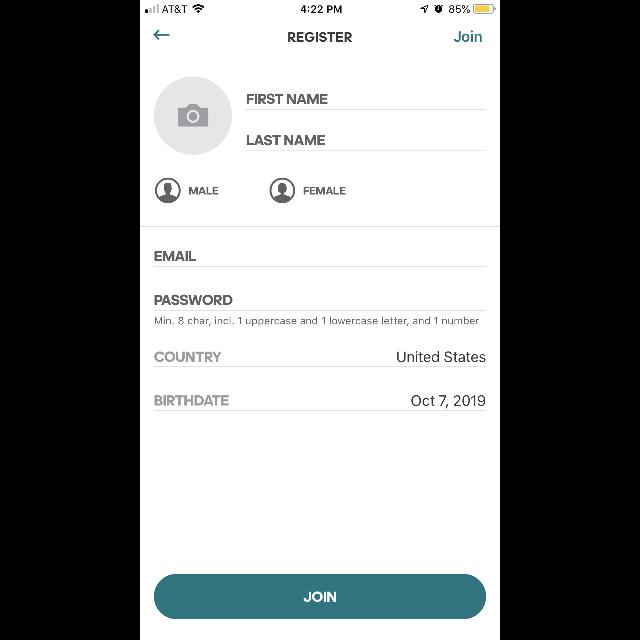icon: (154, 77, 232, 155), (270, 178, 296, 204), (155, 178, 181, 204), (154, 30, 170, 40)
input: (154, 295, 486, 311), (154, 251, 486, 267), (246, 134, 486, 152), (246, 94, 486, 110)
text: (155, 316, 479, 326), (397, 351, 485, 363), (155, 294, 233, 306), (247, 134, 325, 146), (246, 94, 328, 105), (411, 396, 485, 408), (155, 394, 229, 406), (154, 352, 222, 362), (288, 32, 352, 42), (155, 251, 197, 261), (454, 31, 482, 43), (304, 187, 346, 195), (190, 187, 218, 195)
textbutton: (154, 574, 486, 620)
uppertaskbar: (140, 0, 500, 14)
